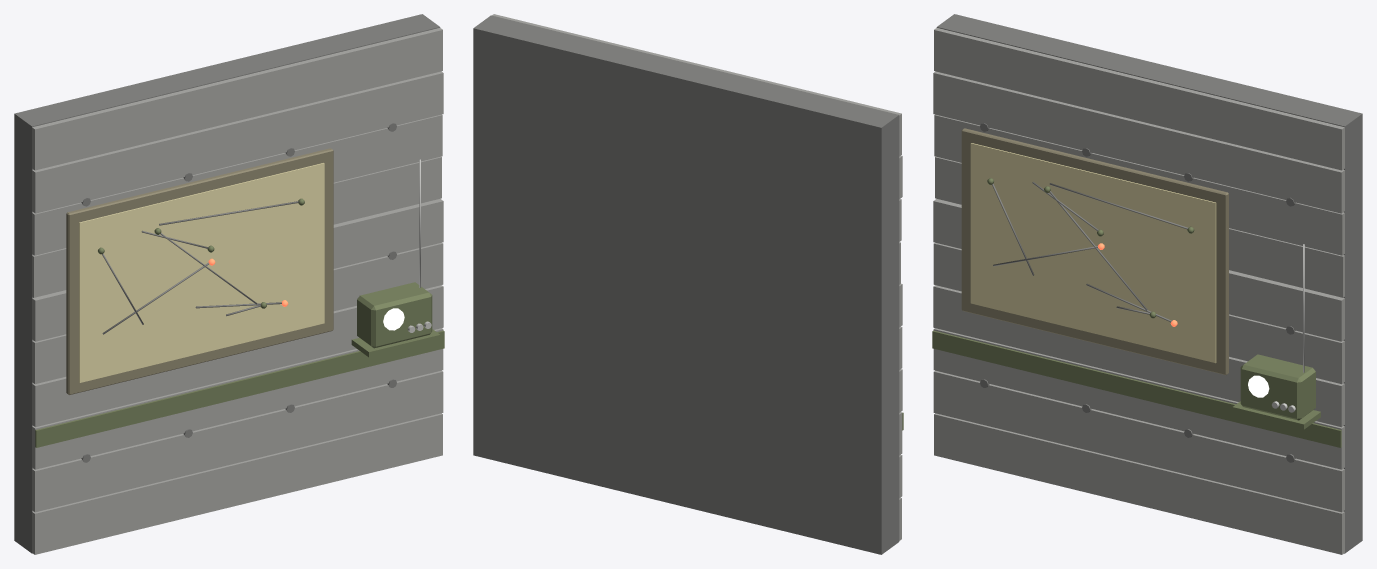
Rendered from wall_bk_map.glb.
3 views of the same model, side by side, from view 1: azimuth 30°, elevation 25°; view 2: azimuth 150°, elevation 25°; view 3: azimuth 330°, elevation 25° (orthographic).
Parts seen in each view (by area): view 1: wall_bk_map; view 2: wall_bk_map; view 3: wall_bk_map.
Boxes of the visible parts, left/top/right/bottom form: wall_bk_map: left=14, top=14, right=444, bottom=554; wall_bk_map: left=473, top=14, right=903, bottom=554; wall_bk_map: left=932, top=14, right=1362, bottom=554.
Bounding box in the file's own units: 4 × 4 × 0.66.
